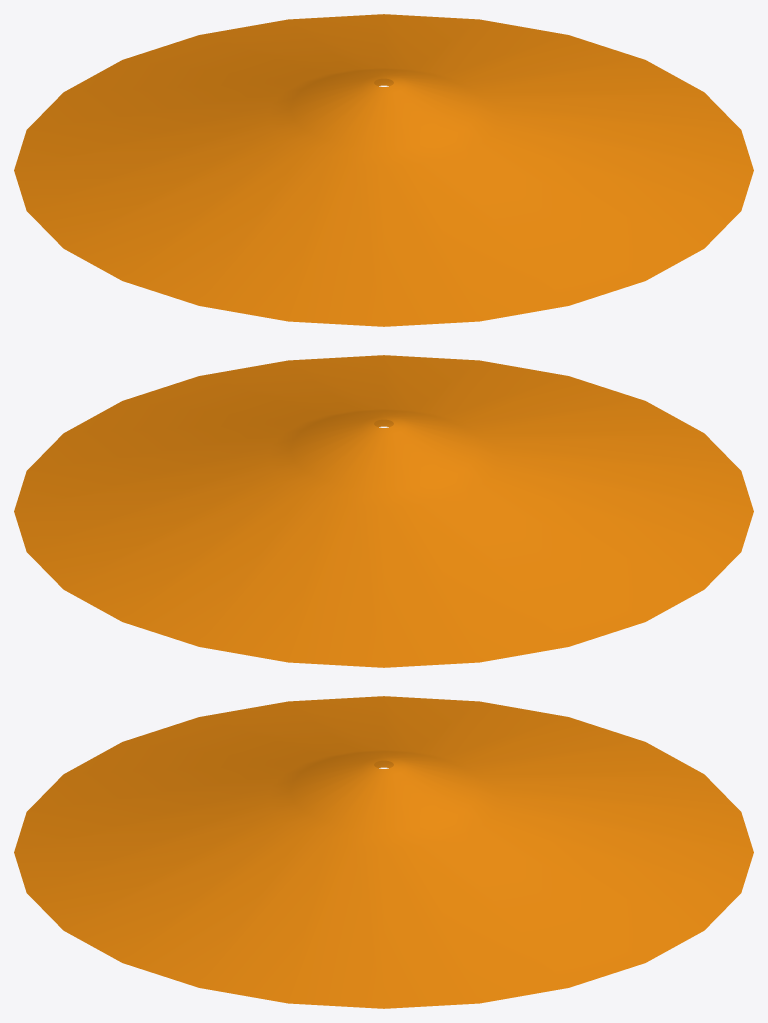
Rendered from Crash.FBX.
3 views of the same model, one above another, from view 1: azimuth 30°, elevation 25°; view 2: azimuth 150°, elevation 25°; view 3: azimuth 270°, elevation 25° (orthographic).
Parts seen in each view (by area): view 1: Cone001; view 2: Cone001; view 3: Cone001.
Boxes of the visible parts, x1,y1,x2,y2 form: Cone001: (14,14,753,326); Cone001: (14,355,753,667); Cone001: (14,696,753,1008).
Size of the model in its own units: 52.52 by 6.87 by 52.52.
